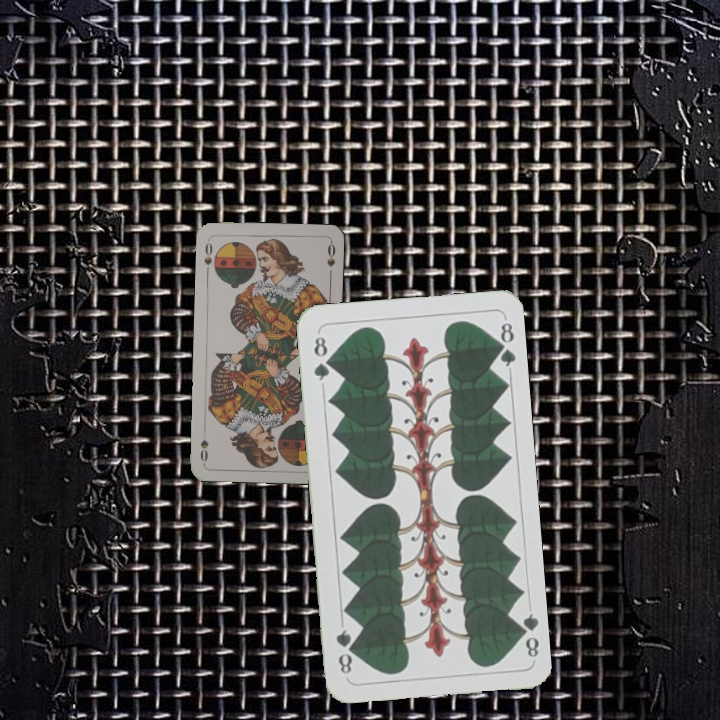G8: (513, 609, 542, 660), (309, 332, 333, 383)
SO: (200, 236, 215, 276)
